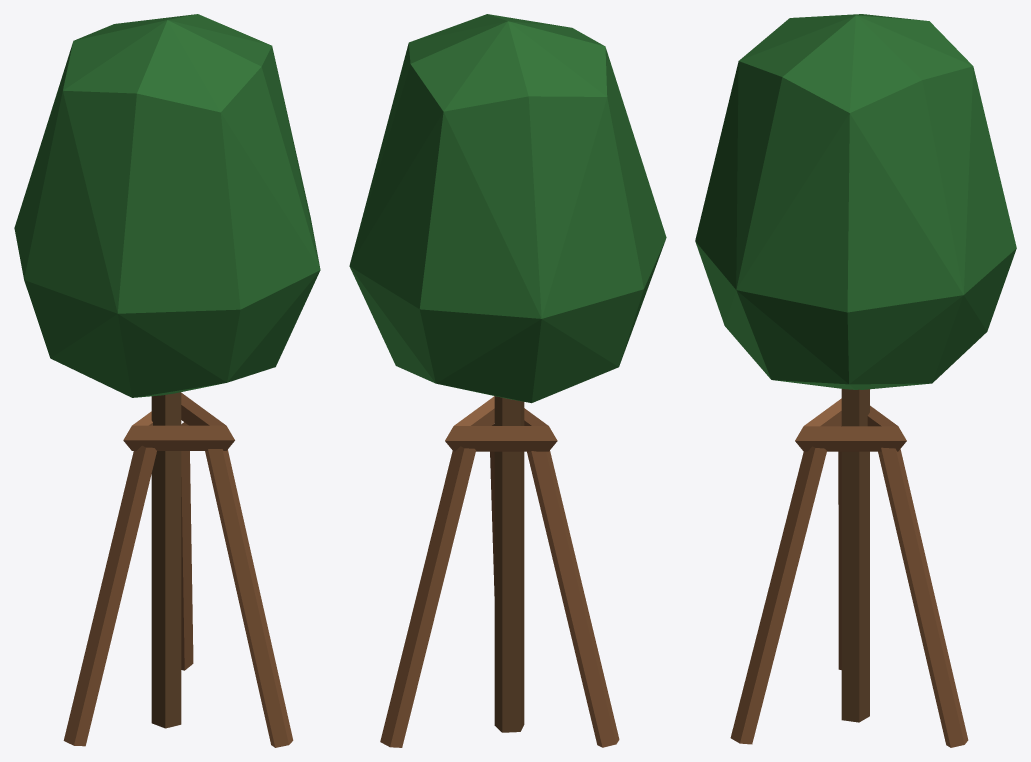
File: nature-tree-little.glb
3 views of the same model, side by side, from view 1: azimuth 30°, elevation 25°; view 2: azimuth 150°, elevation 25°; view 3: azimuth 270°, elevation 25° (orthographic).
Visible parts, largest first — view 1: tree-little; view 2: tree-little; view 3: tree-little.
Boxes of the visible parts, left/top/right/bottom form: tree-little: left=14, top=14, right=320, bottom=747; tree-little: left=349, top=14, right=666, bottom=747; tree-little: left=695, top=14, right=1016, bottom=747.
Size of the model in its own units: 1.11 by 2.67 by 1.11.
